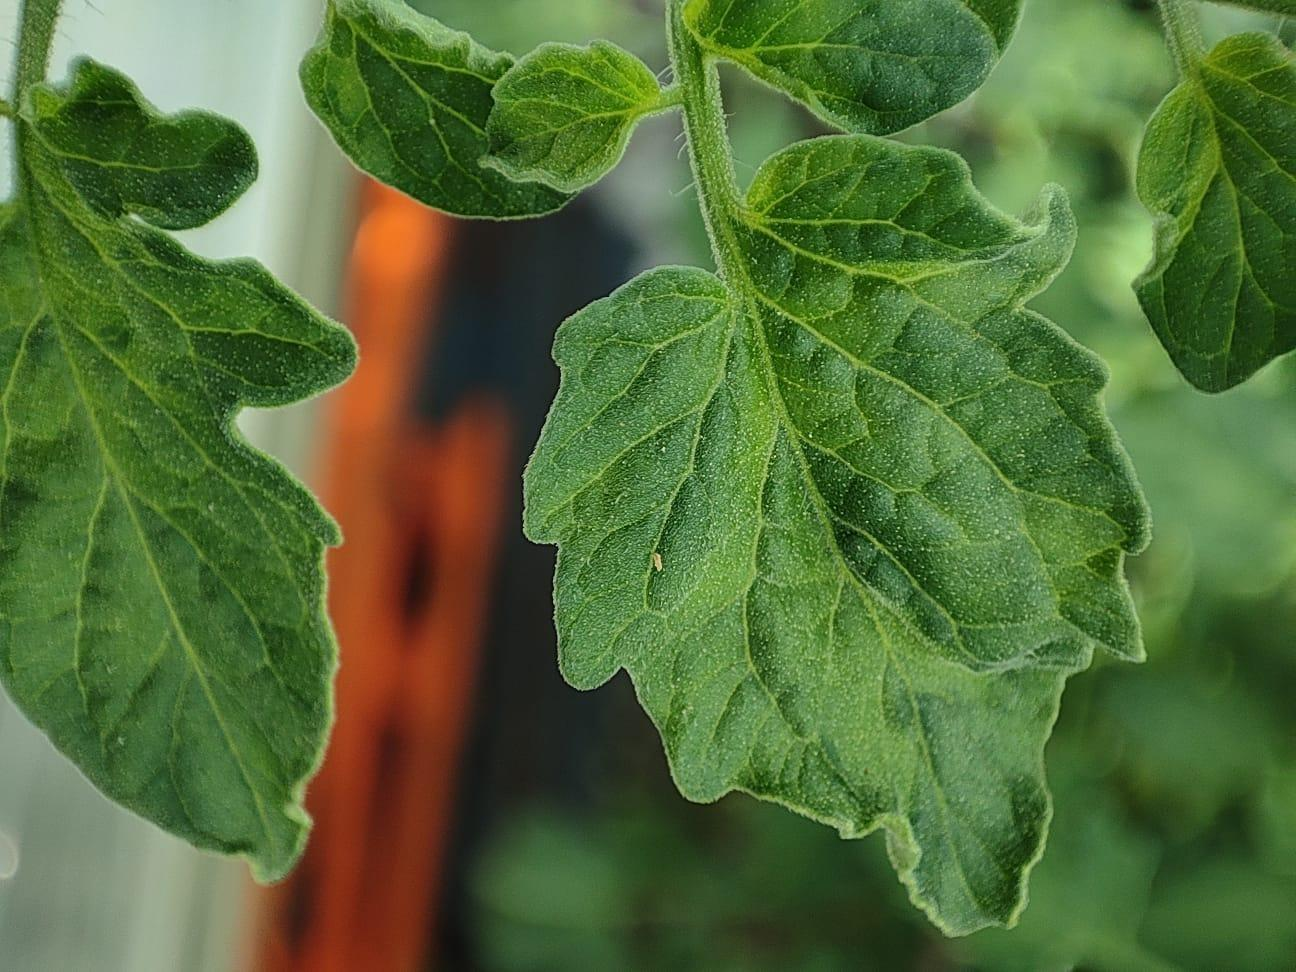Rugose leaf: (527, 137, 1149, 931), (0, 157, 354, 881), (1139, 0, 1295, 388), (301, 0, 569, 218), (684, 0, 1016, 133), (31, 58, 258, 229), (484, 41, 674, 192), (0, 0, 16, 95)
